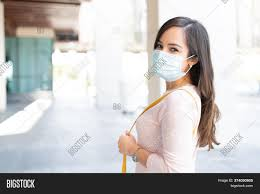with-mask: (152, 16, 208, 85)
